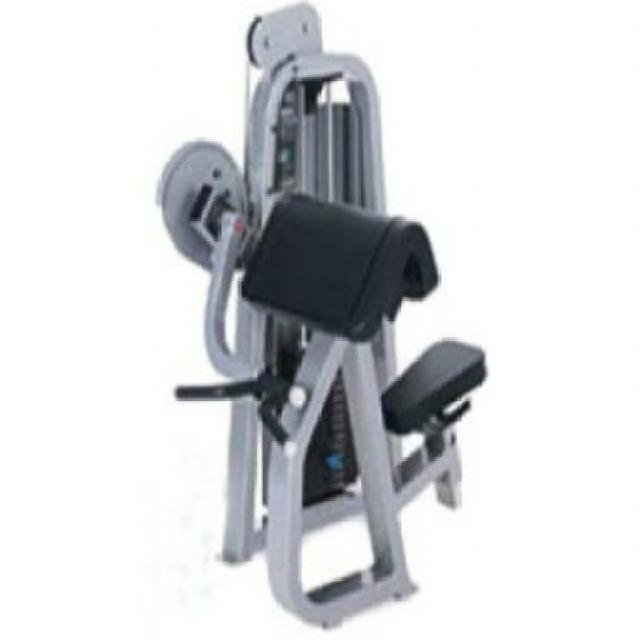arm curl machine: (157, 3, 488, 628)
